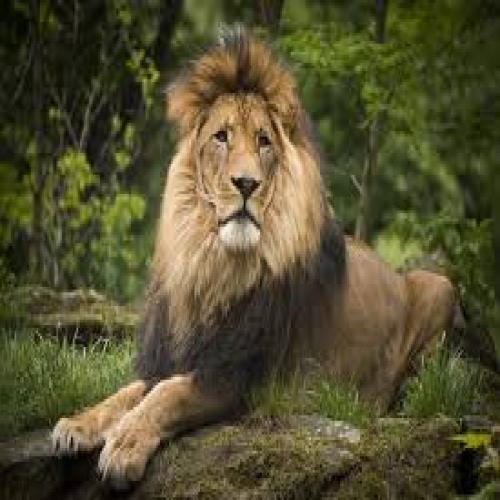lion-endangered: (63, 35, 469, 481)
